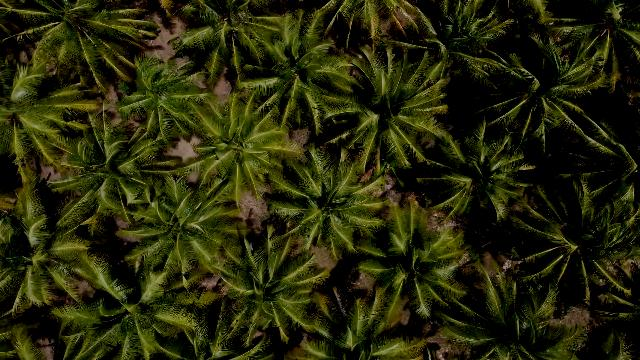trees: (41, 104, 184, 240), (505, 170, 640, 310), (327, 41, 455, 177), (201, 218, 327, 353), (231, 10, 356, 141), (7, 178, 119, 323), (6, 2, 164, 100), (436, 258, 586, 360), (354, 205, 470, 327), (179, 90, 294, 212), (270, 147, 386, 263), (123, 178, 236, 287), (426, 118, 540, 226), (538, 3, 640, 110), (171, 4, 282, 89), (115, 55, 214, 150), (422, 4, 521, 83), (327, 2, 435, 55), (558, 107, 640, 175), (589, 259, 640, 325)
